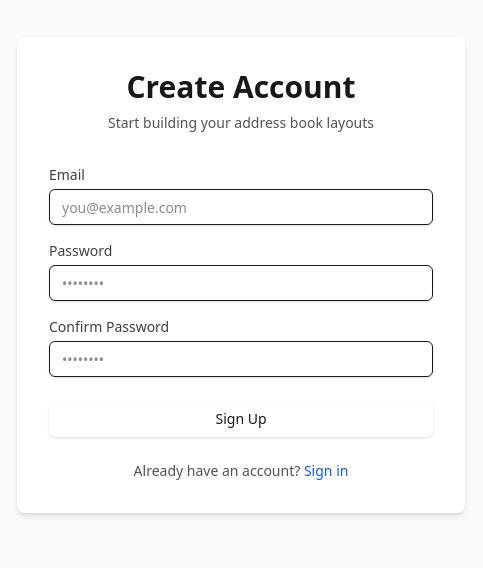
it: SignupPage › should display error message on failed signup
Type "test@example.com" into the field labelled "Email" at (241, 207), box [49,189,433,225]
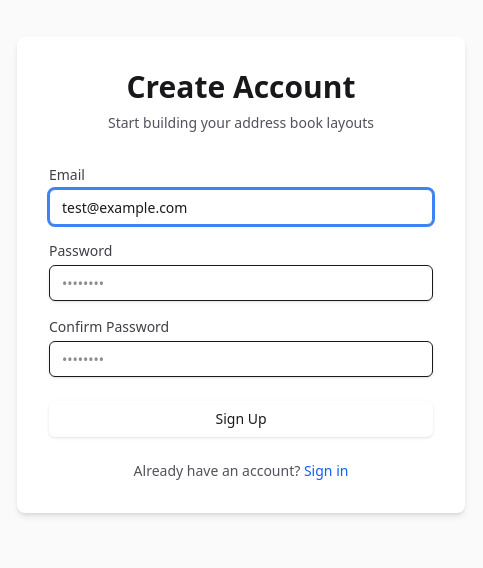
Type "password123" into the password field labelled "Password" at (241, 283), box [49,265,433,301]
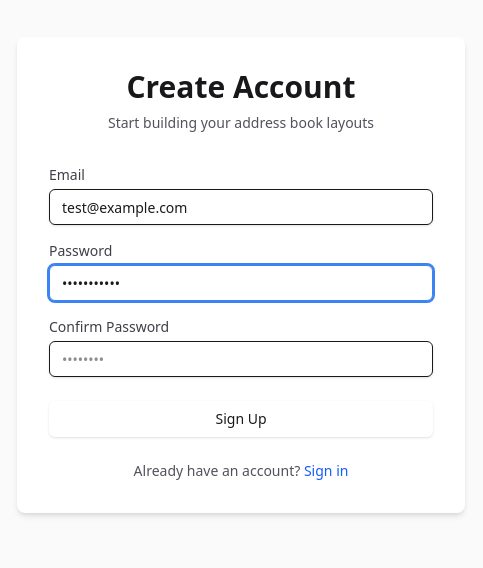
Type "password123" into the password field labelled "Confirm Password" at (241, 359), box [49,341,433,377]
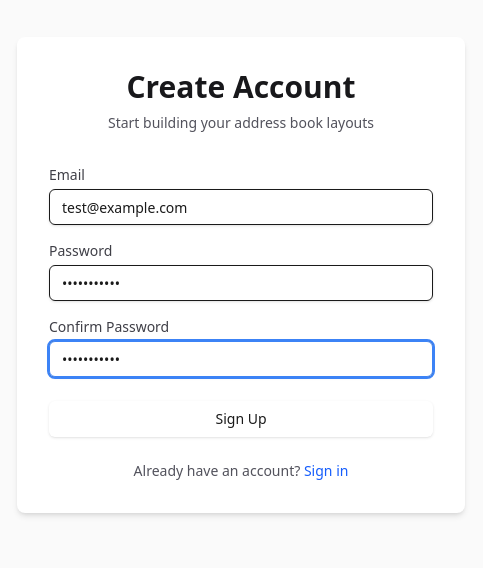
Click the button with aria-label "create your account" at (241, 419), box [49,401,433,437]
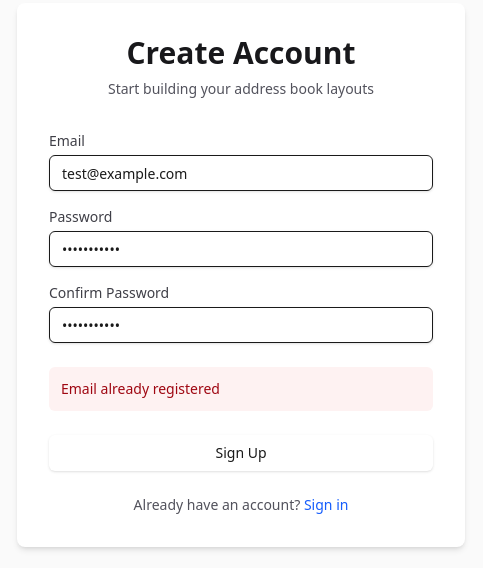
Expected: the text "Email already registered" is shown, [49,367,433,411]
